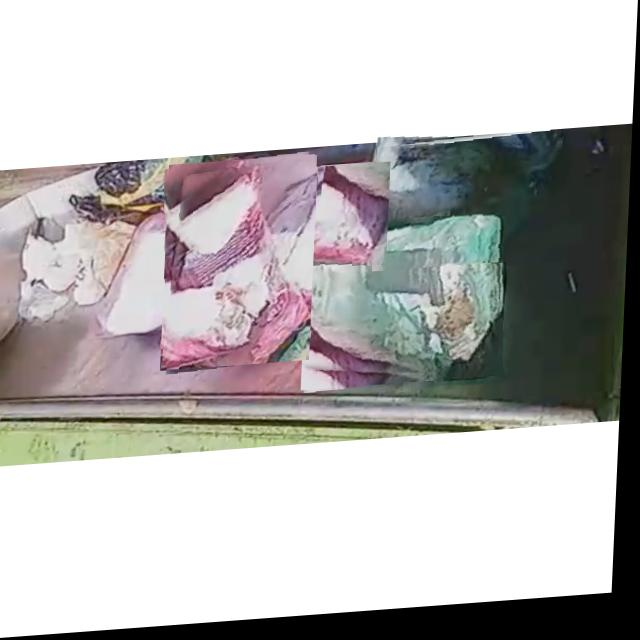general_trashbag: (309, 214, 503, 381), (378, 146, 563, 270)
other_trashbag: (173, 168, 313, 370), (232, 171, 390, 271)
